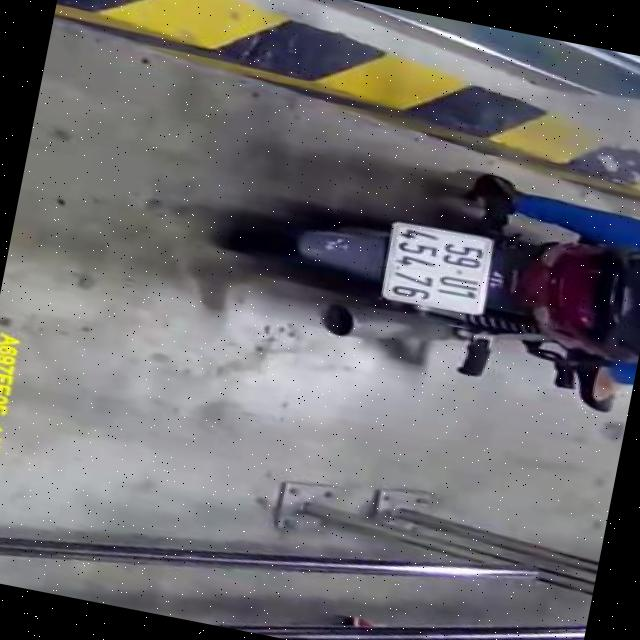license_plate: (371, 216, 498, 320)
